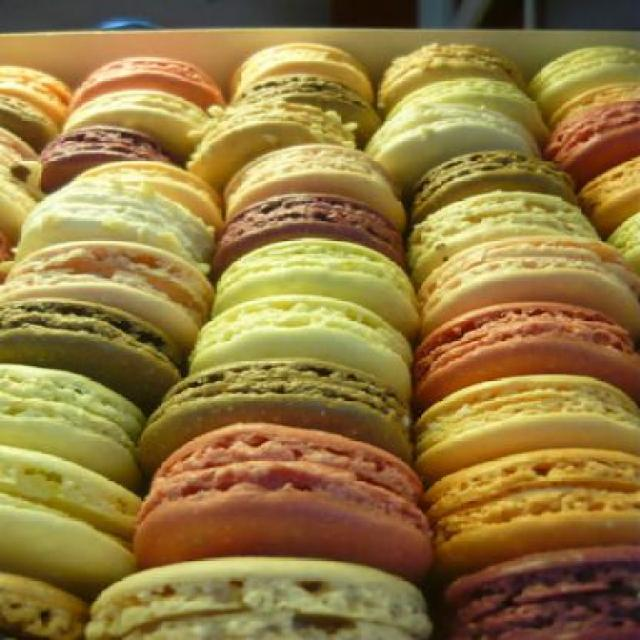Macaron: (3, 34, 639, 638)
